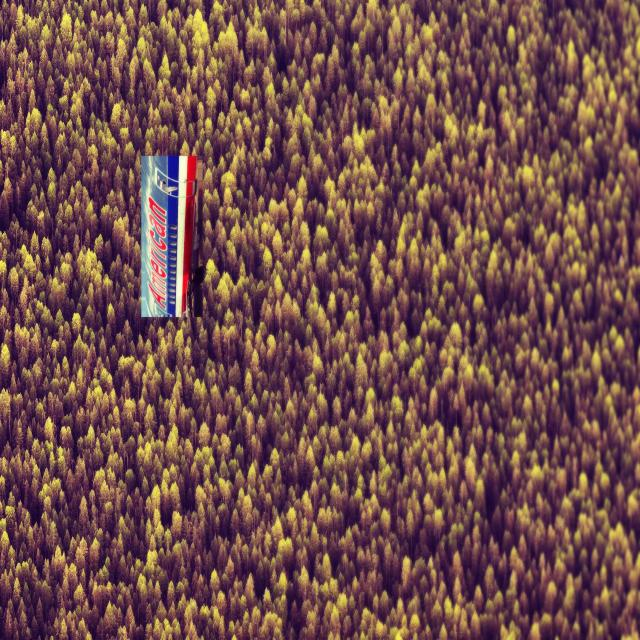airplane: (140, 153, 203, 319)
